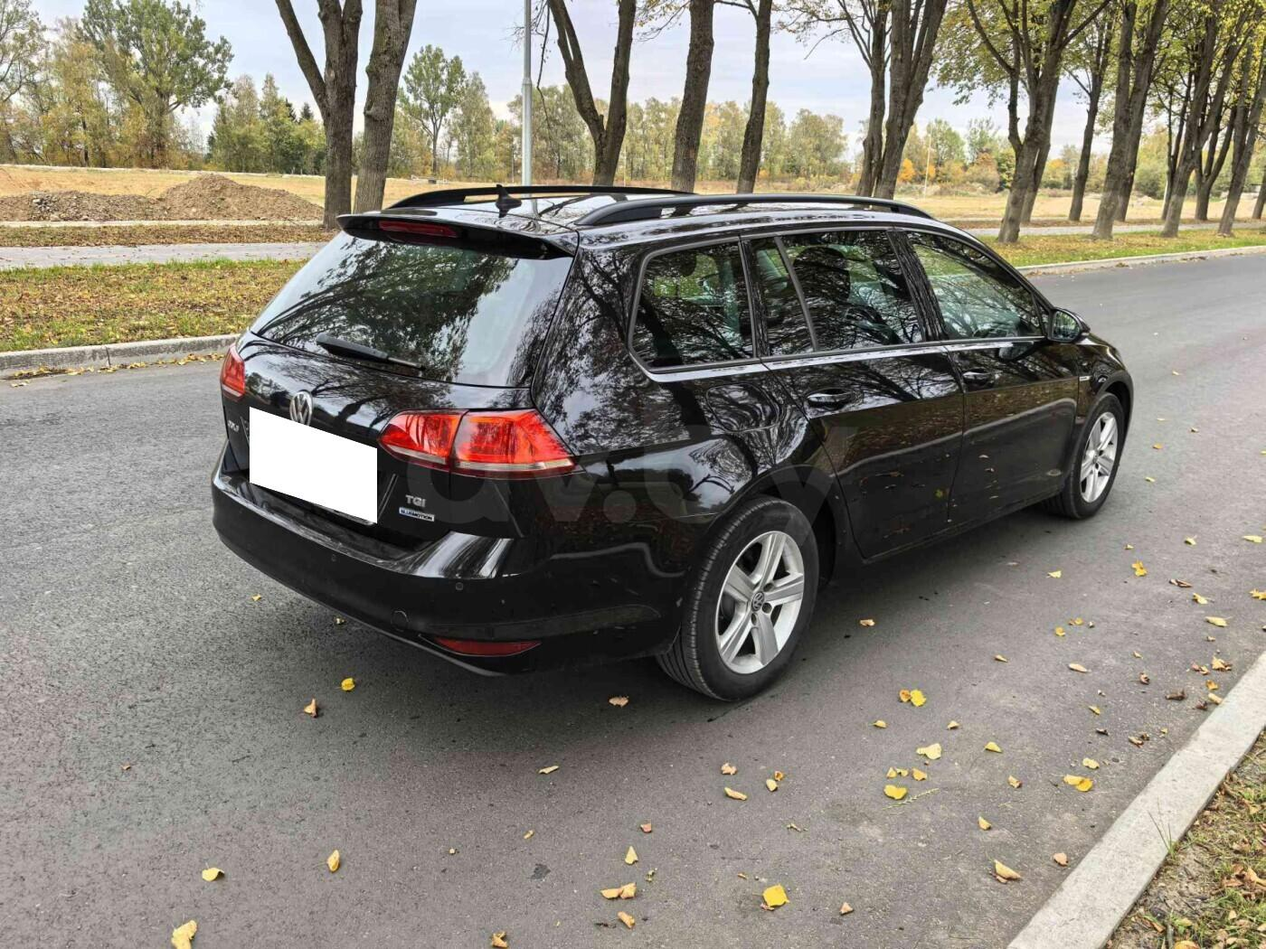Golf_2012-2017: (210, 185, 1132, 708)
